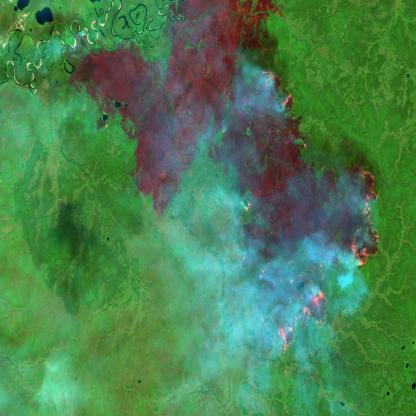fire: (235, 64, 382, 356)
